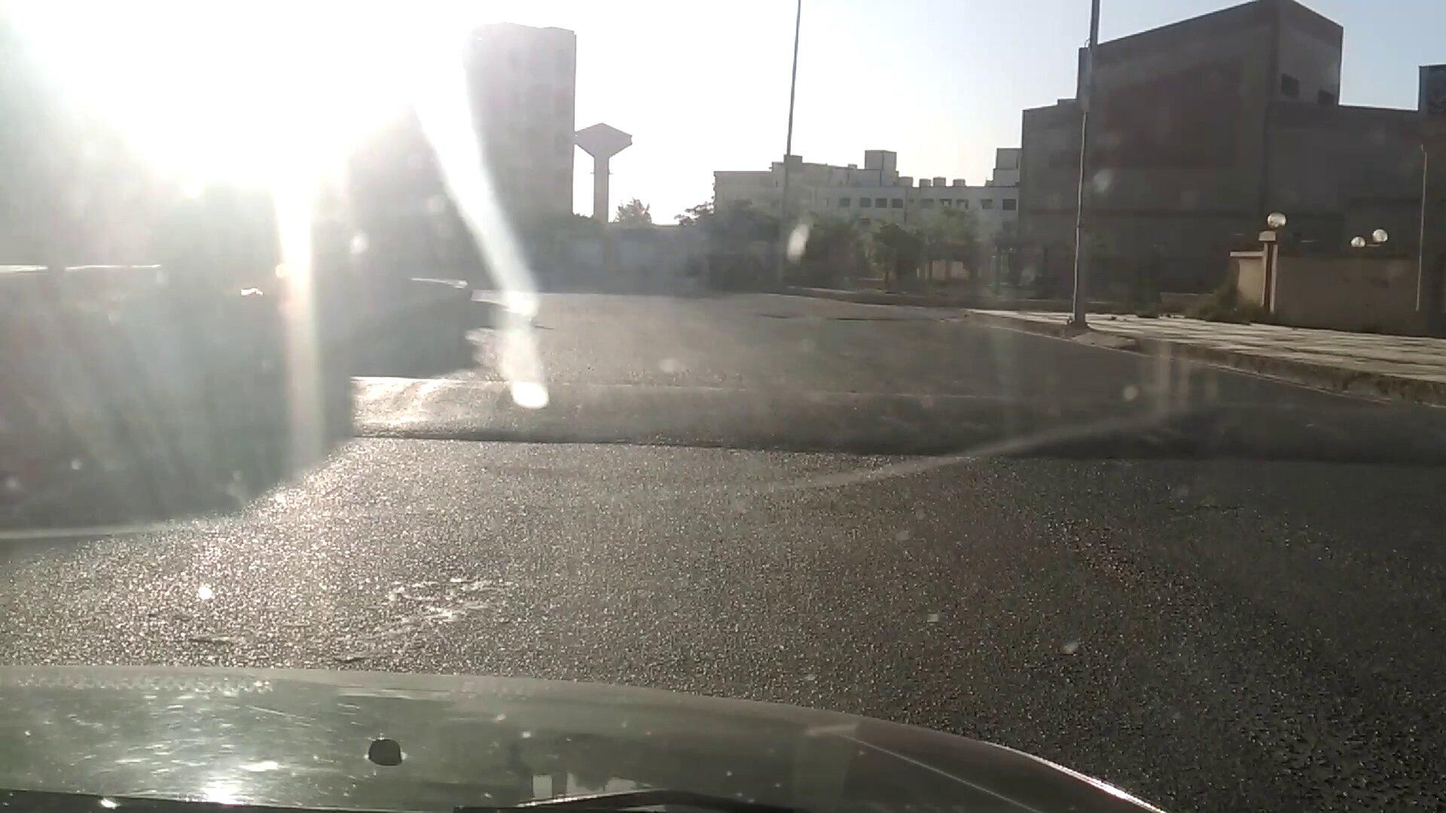Bump: (166, 370, 1445, 468)
